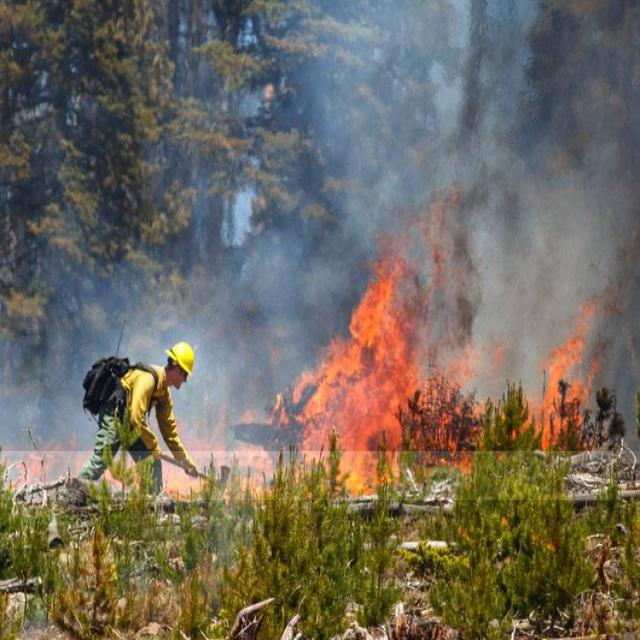Fire: (0, 255, 614, 500)
Smoke: (0, 0, 640, 451)
